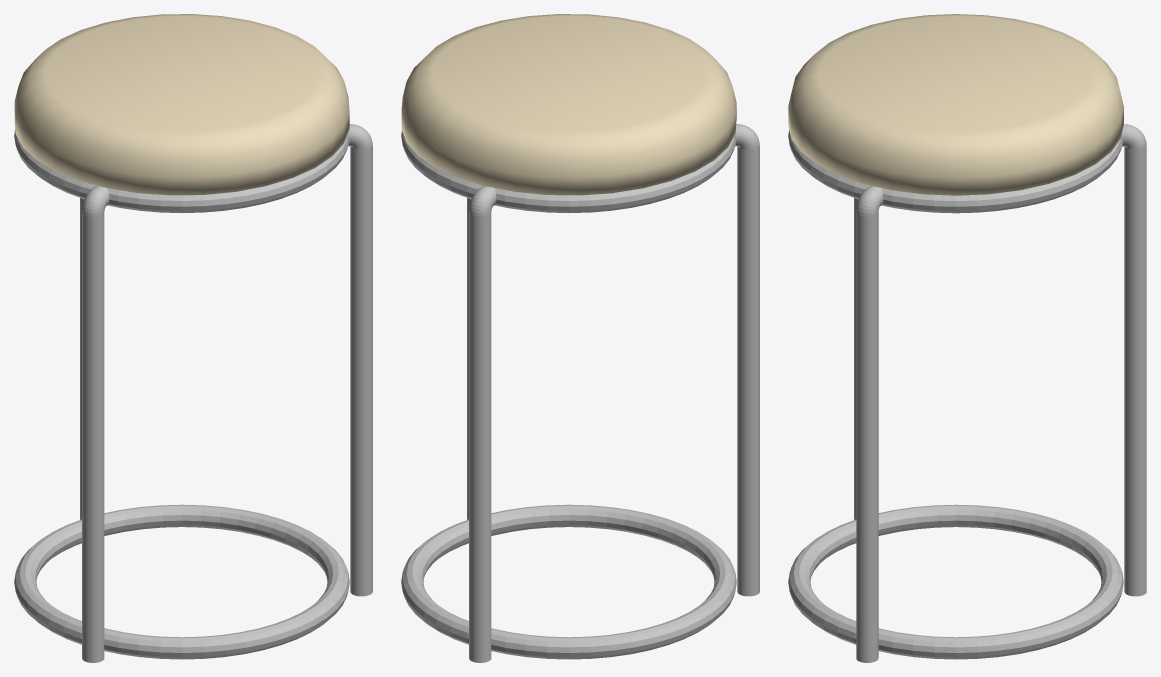
Rendered from InfirmaryChair.fbx.
3 views of the same model, side by side, from view 1: azimuth 30°, elevation 25°; view 2: azimuth 150°, elevation 25°; view 3: azimuth 270°, elevation 25° (orthographic).
Parts seen in each view (by area): view 1: 007.chair.000; view 2: 007.chair.000; view 3: 007.chair.000.
Boxes of the visible parts, x1,y1,x2,y2 form: 007.chair.000: [14, 14, 372, 662]; 007.chair.000: [401, 14, 759, 662]; 007.chair.000: [788, 14, 1146, 662].
Size of the model in its own units: 30 by 51.1 by 32.05.
